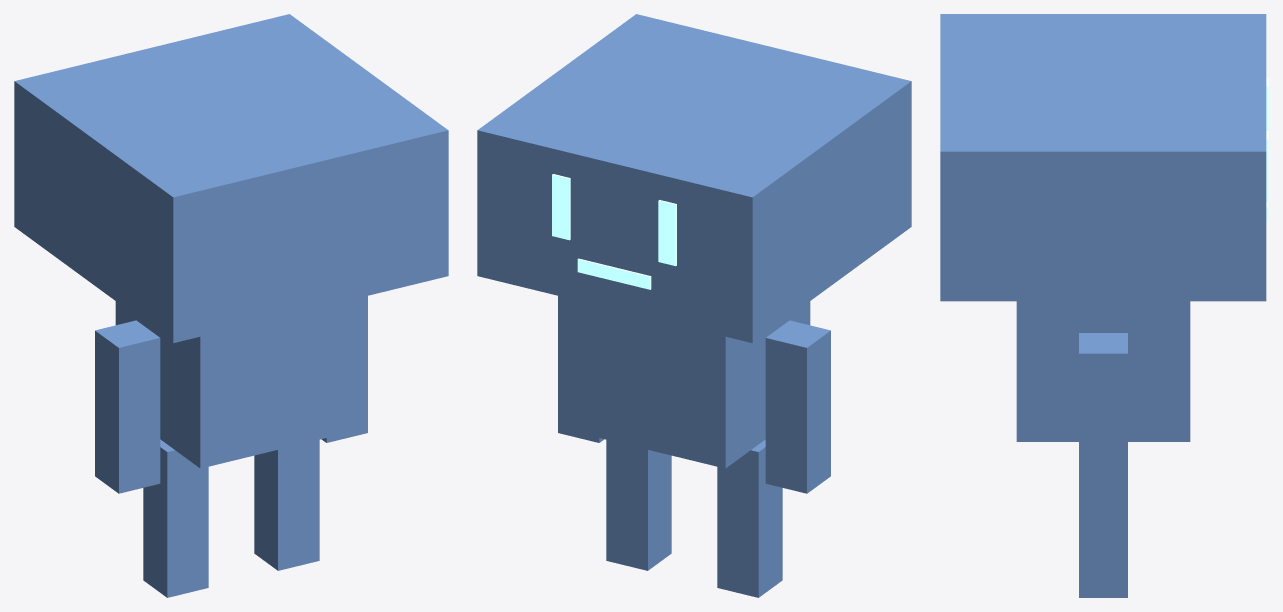
Rendered from dark-chip.glb.
3 renders of one model, left to right at view 1: azimuth 30°, elevation 25°; view 2: azimuth 150°, elevation 25°; view 3: azimuth 270°, elevation 25°, orthographic. The views are drawn at different scales.
Parts seen in each view (by area): view 1: Cube.001; view 2: Cube.001; view 3: Cube.001.
Part boxes in pixels (x1=…): Cube.001: x1=14, y1=14, x2=448, y2=597; Cube.001: x1=477, y1=14, x2=911, y2=597; Cube.001: x1=940, y1=14, x2=1268, y2=597.
Size of the model in its own units: 1.55 by 2.51 by 1.56.
